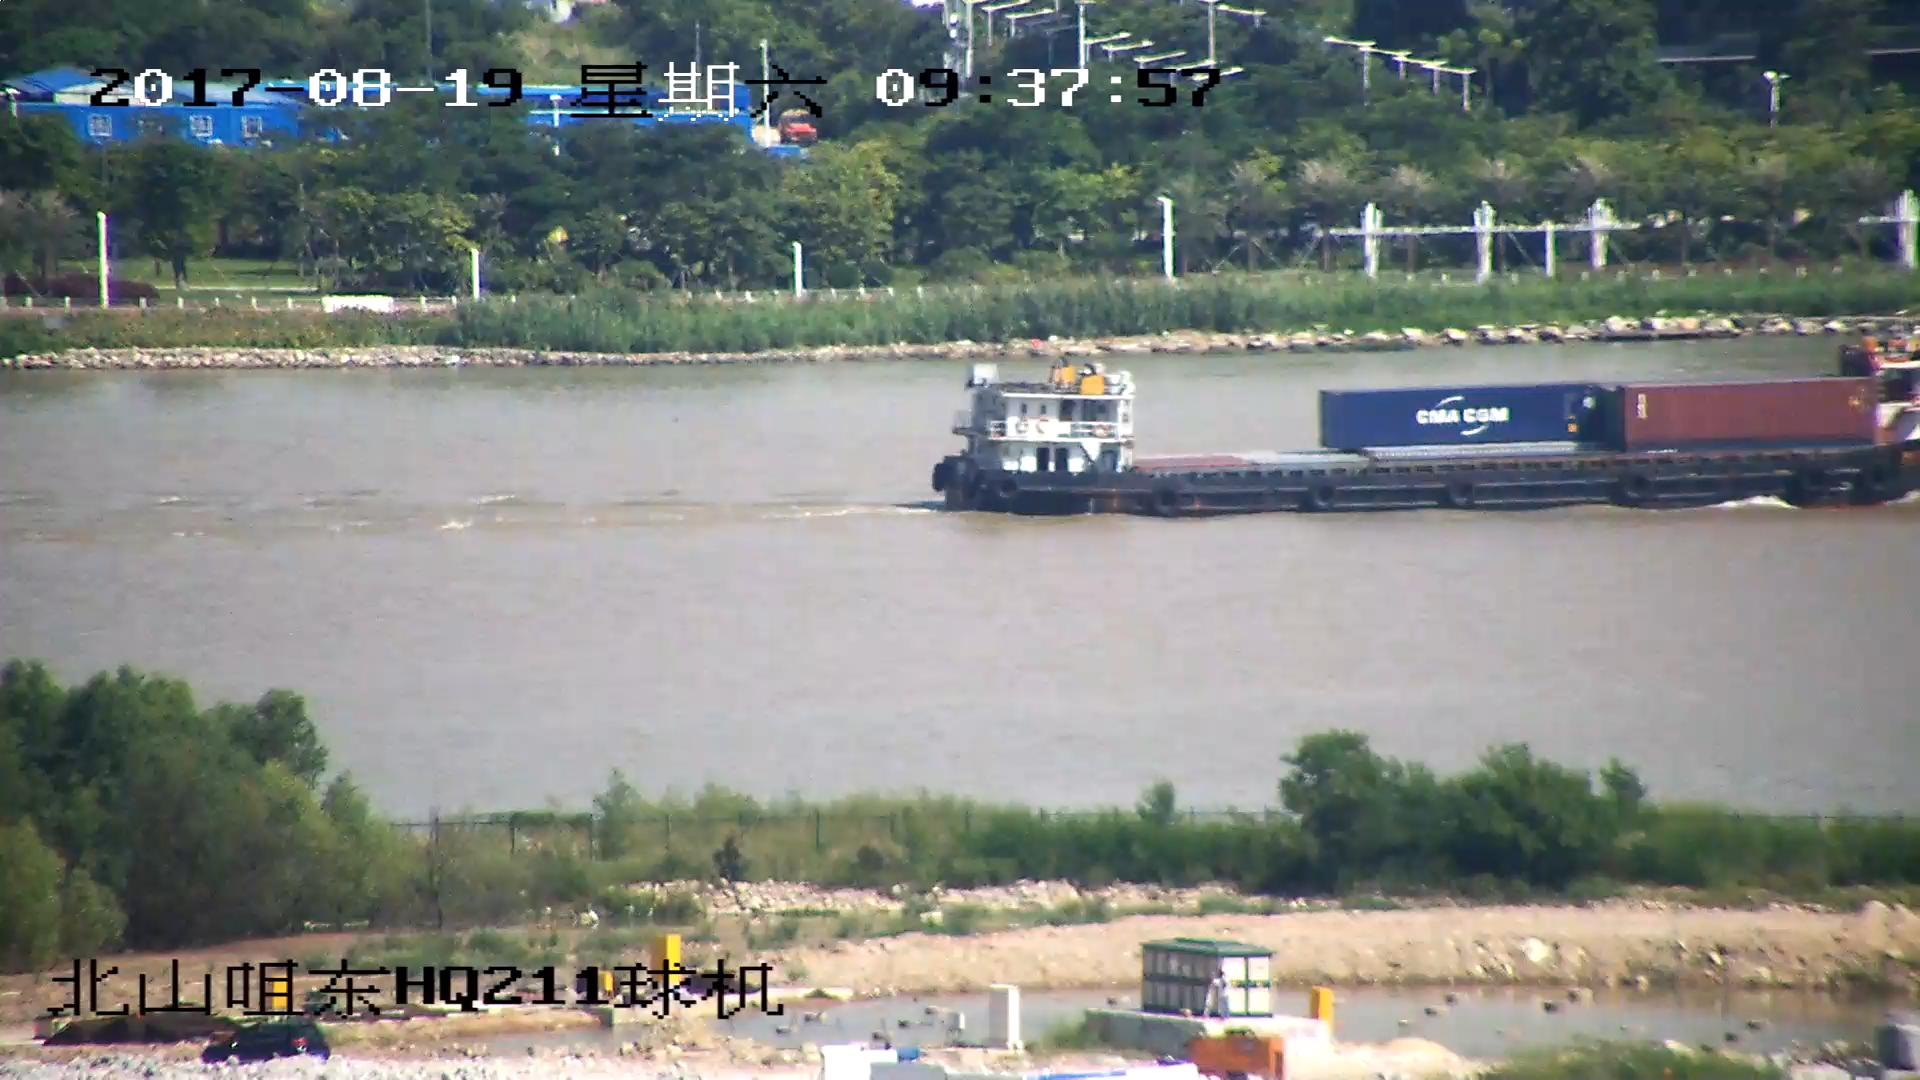container ship: (929, 350, 1920, 510)
